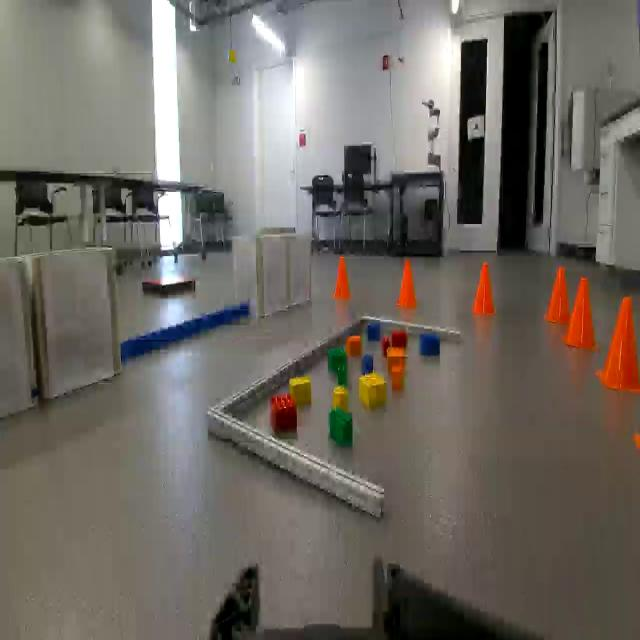block: (358, 374, 388, 410), (332, 386, 350, 408)
blue: (420, 330, 441, 358), (366, 321, 383, 343), (363, 352, 374, 376)
cone: (594, 290, 640, 392), (562, 269, 600, 357), (543, 260, 572, 328), (469, 259, 498, 317), (394, 254, 420, 314), (331, 253, 353, 305)
green: (328, 404, 354, 450), (326, 346, 348, 372), (338, 363, 349, 385)
metal barrier: (208, 310, 463, 518)
orange: (388, 344, 407, 371), (347, 336, 364, 360), (391, 364, 403, 394)
red: (141, 270, 195, 304)
red goal: (269, 394, 300, 433), (392, 330, 408, 348)
river: (117, 300, 249, 362)
storage cube: (29, 248, 121, 400), (0, 250, 39, 419), (232, 234, 290, 321), (292, 232, 314, 309), (261, 226, 266, 228)
